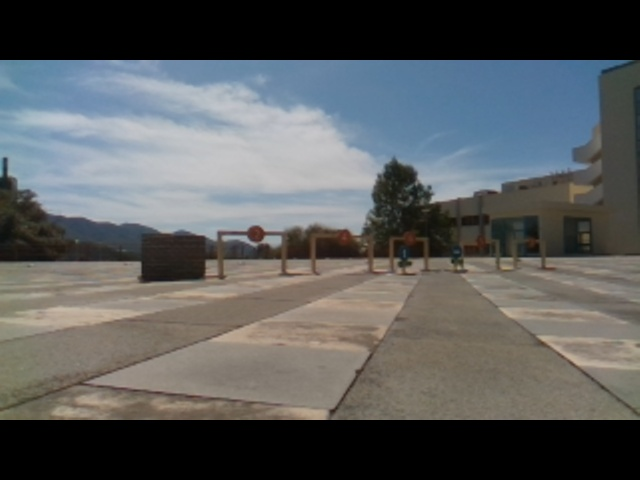arrow_right: (450, 244, 463, 257)
arrow_up: (397, 247, 411, 260)
checkpoint_foot: (279, 268, 306, 277), (202, 272, 224, 281)
checkpoint_side: (307, 230, 318, 271), (364, 229, 375, 268), (279, 230, 288, 274), (215, 228, 223, 273), (421, 235, 430, 268), (386, 234, 395, 267)
checkpoint_signal: (214, 228, 290, 237), (309, 230, 375, 240), (388, 234, 431, 241)
two: (246, 224, 266, 242)
wall: (138, 232, 209, 282)
